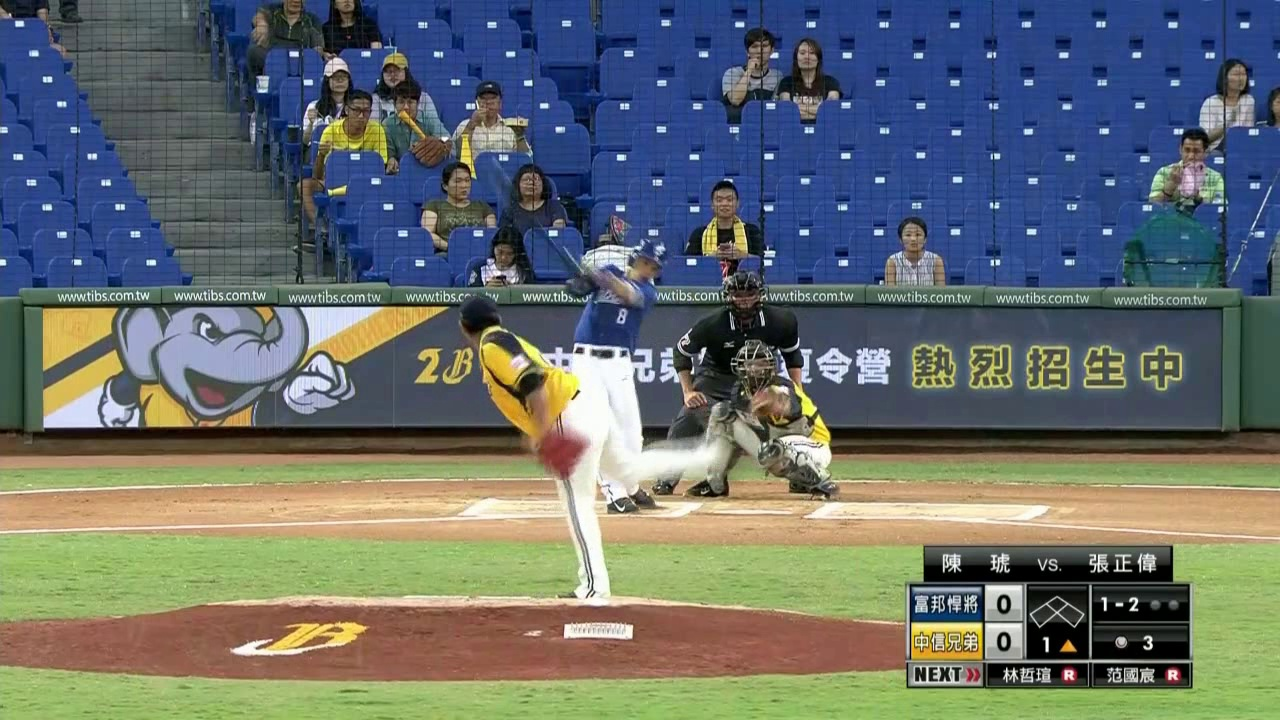base: (1028, 592, 1086, 628)
bat: (519, 191, 586, 284)
out: (1146, 594, 1186, 617)
score1: (989, 591, 1020, 618)
score2: (992, 625, 1017, 658)
session: (1032, 630, 1081, 660)
strikeball: (1099, 593, 1144, 617)
total: (1111, 629, 1162, 657)
